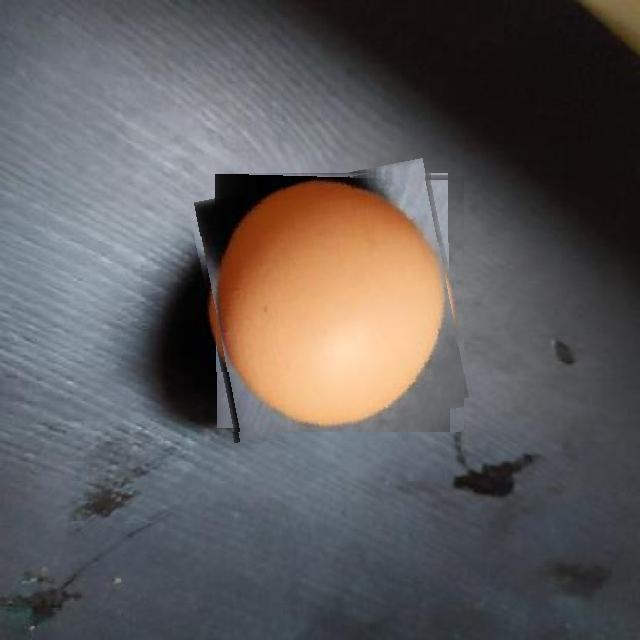biodegradable: (198, 168, 464, 432)
